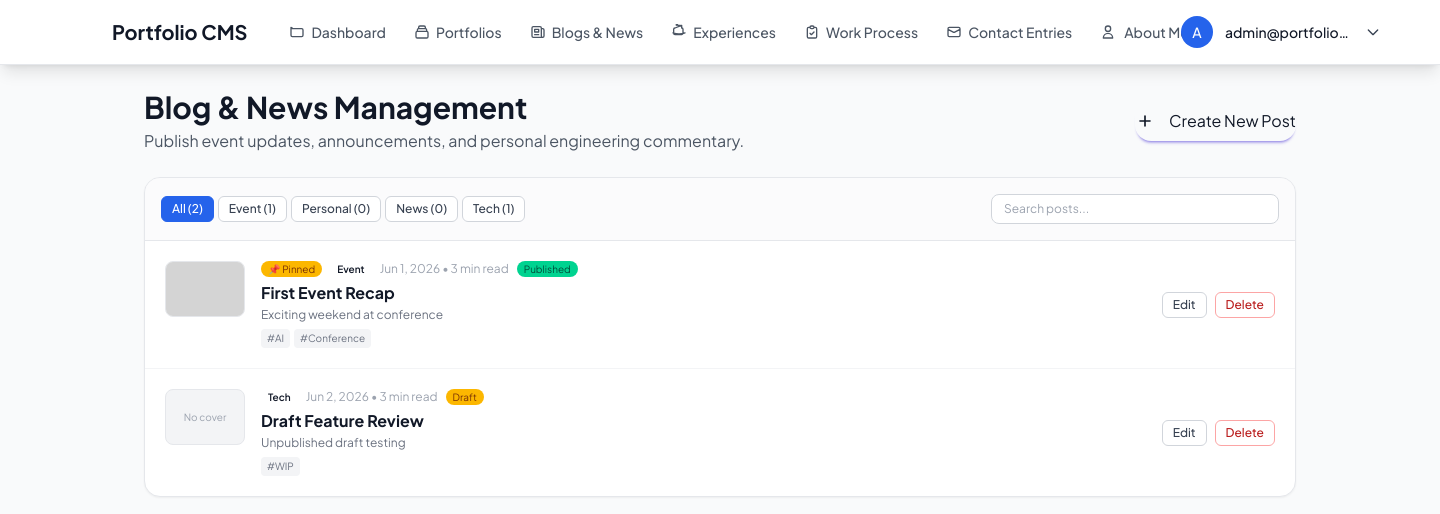
Scenario: CMS Blog & News Management › deletes a blog post after user confirmation
Click the button with test id "delete-blog-blog-1": (1245, 304) 1215,292 -> 1275,318
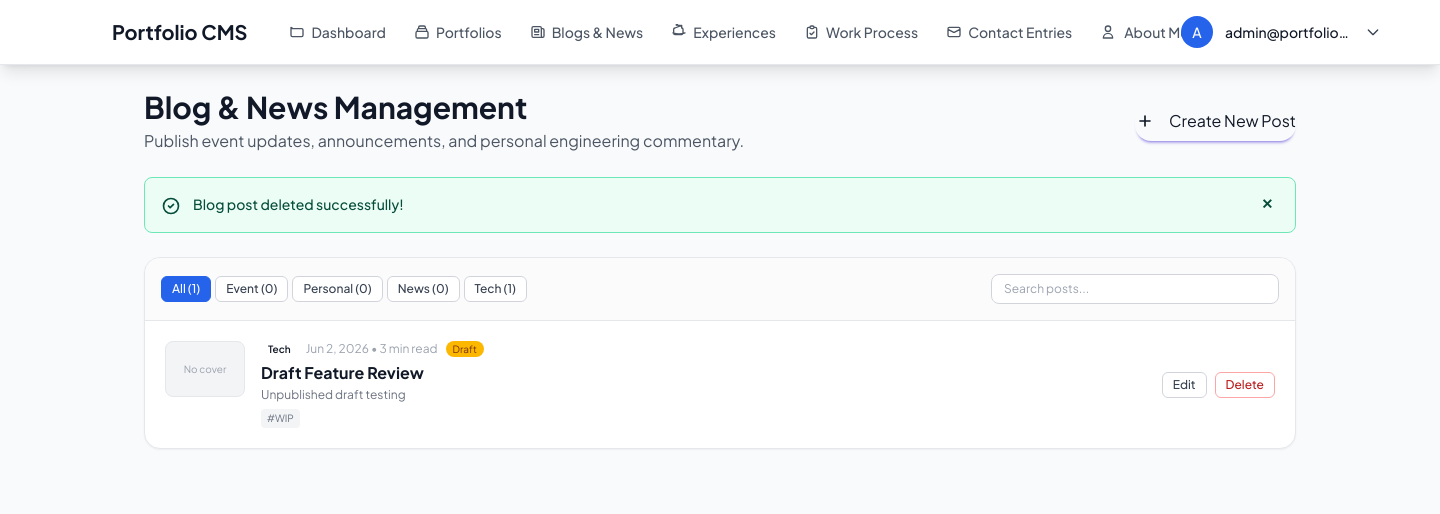
Check: the text "Blog post deleted successfully!" is shown, box 193,195 -> 404,213
Check: the heading "First Event Recap" is gone
